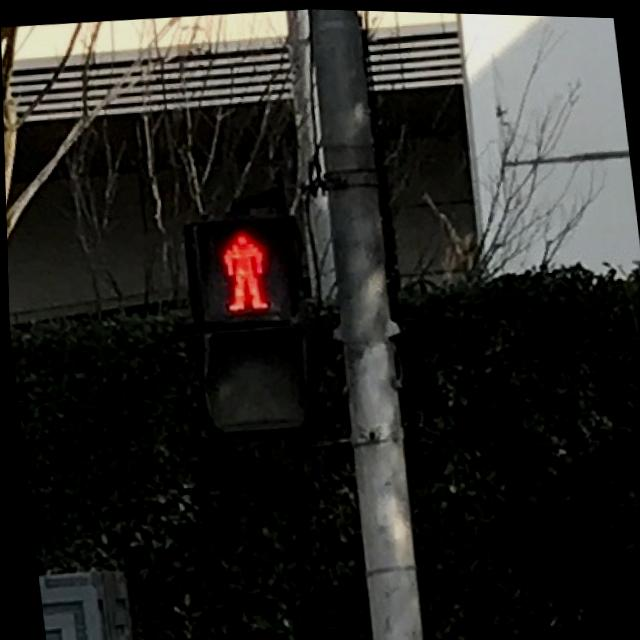red_light: (194, 206, 296, 322)
